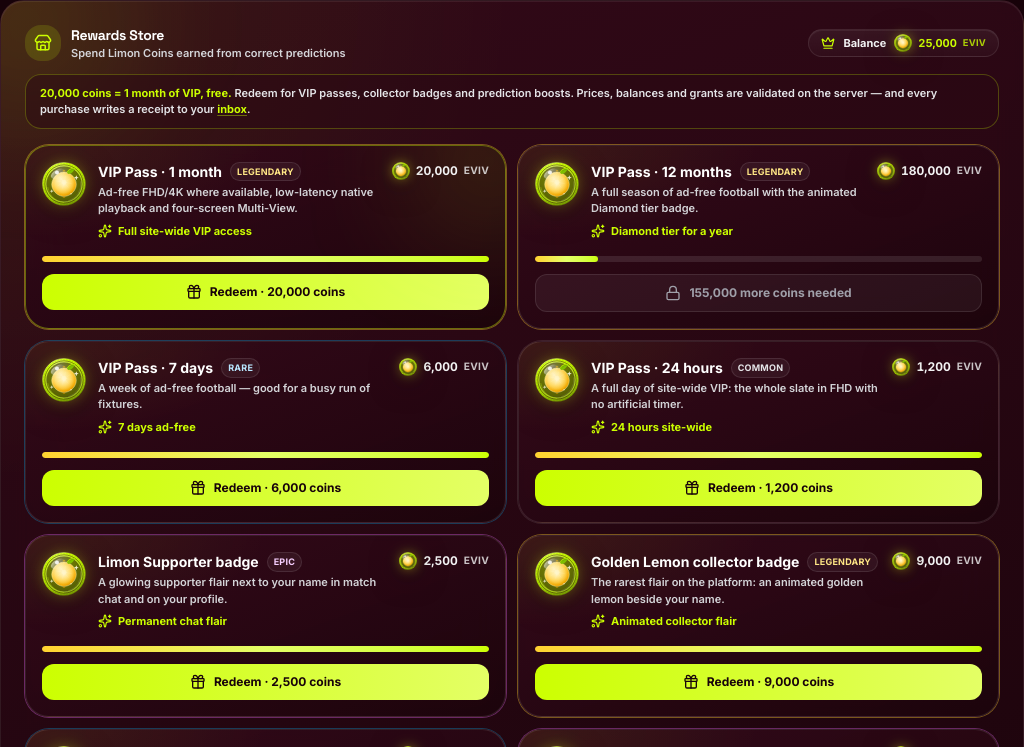
Rewards Store › redeems through the server when the balance is enough and reports the result
Click the button "Redeem · 20,000 coins" at (266, 292), box [42,274,489,310]
(page scrolled)
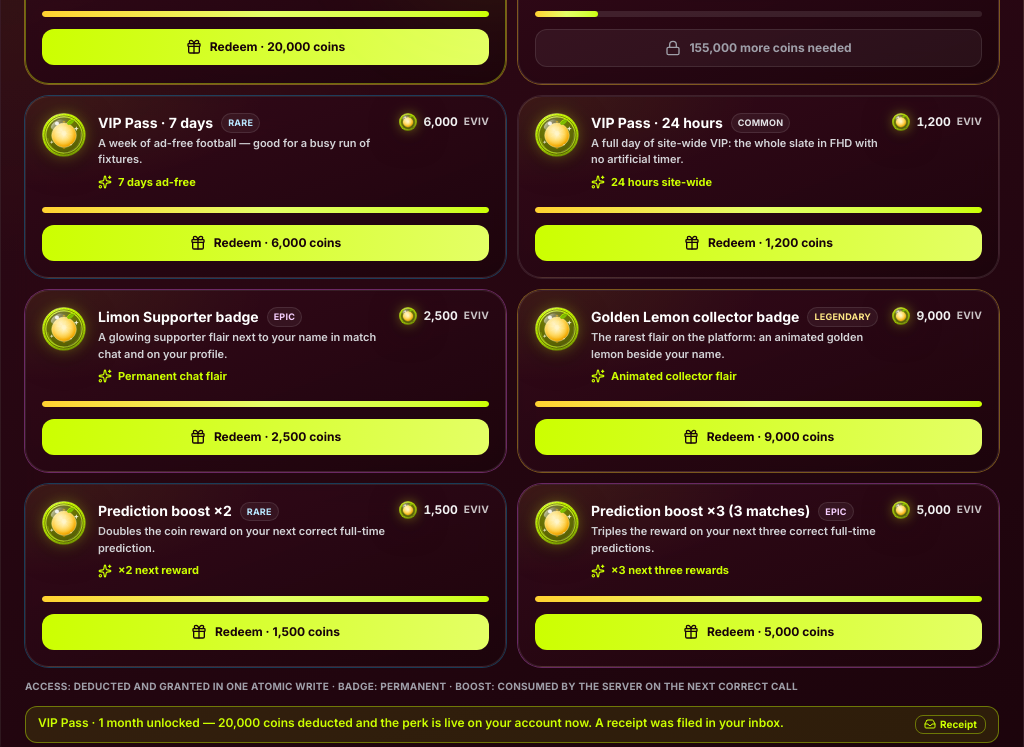
Check: the message shows "unlocked", box [38,714,784,730]
